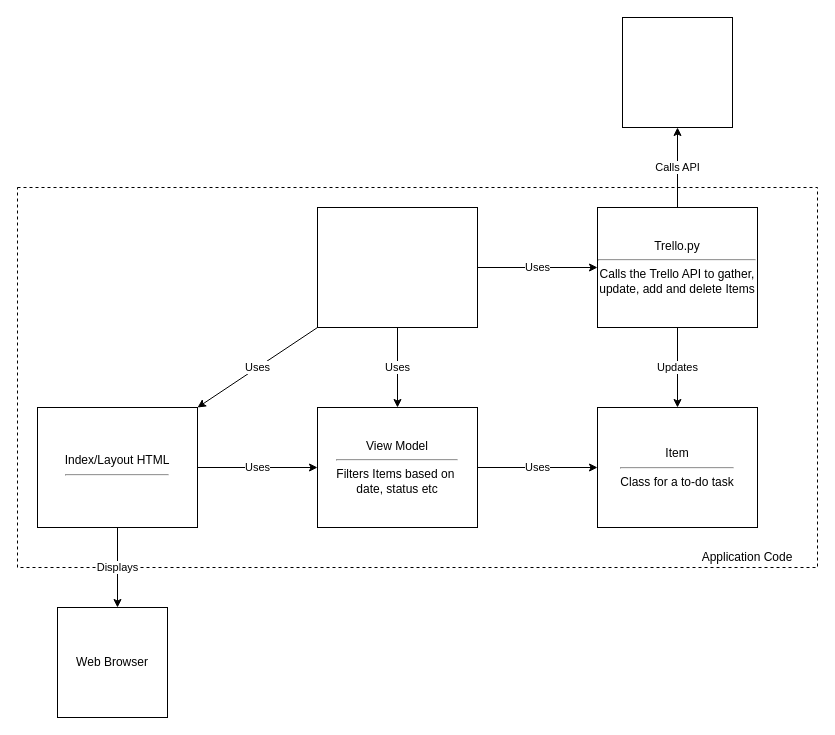
The diagram is 835 pixels wide and 735 high, and some of its shapes have lost their labels. Here are the shapes that lost their labels. From the top down, the centre of each, then its label:
(x=677, y=72): Trello
(x=397, y=267): Flask app Web framework
